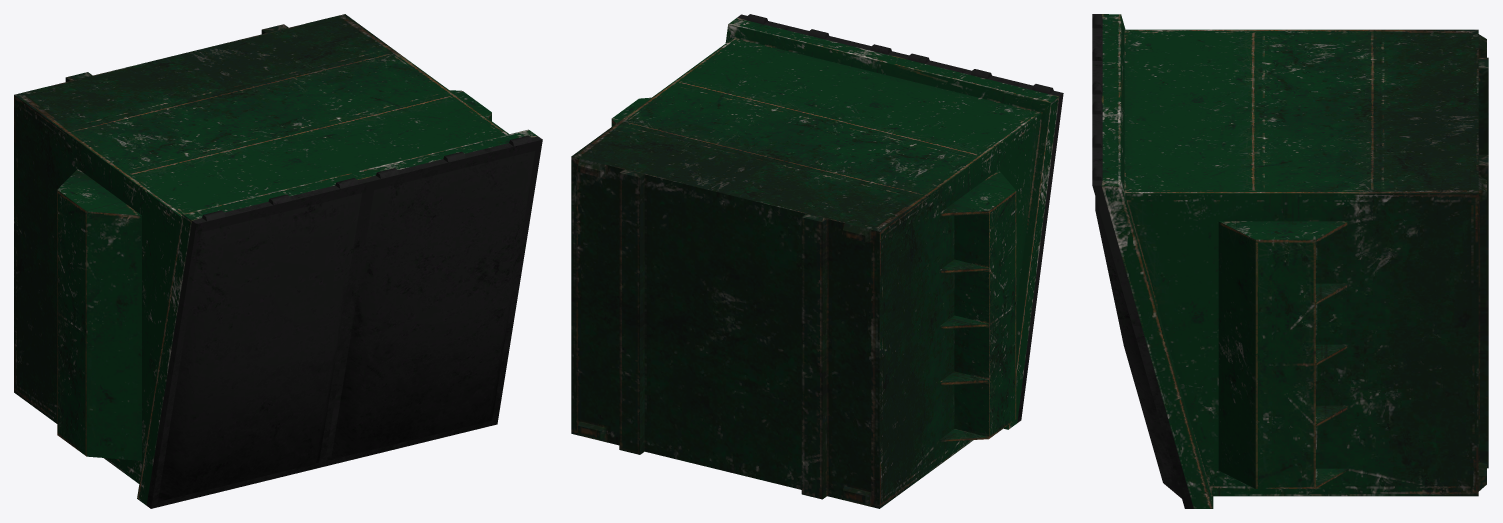
The model's file is Dumpster.obj.
The picture shows the model from 3 angles, left to right: view 1: azimuth 30°, elevation 25°; view 2: azimuth 150°, elevation 25°; view 3: azimuth 270°, elevation 25°; orthographic projection. The views are drawn at different scales.
Visible parts, largest first — view 1: Dumpster_LOW; view 2: Dumpster_LOW; view 3: Dumpster_LOW.
Part boxes in pixels (left/top/right/bottom): Dumpster_LOW: left=14, top=14, right=542, bottom=508; Dumpster_LOW: left=571, top=14, right=1063, bottom=508; Dumpster_LOW: left=1092, top=14, right=1488, bottom=508.
Bounding box in the file's own units: 2.26 × 1.72 × 1.88.
1 material, 1 textured.
